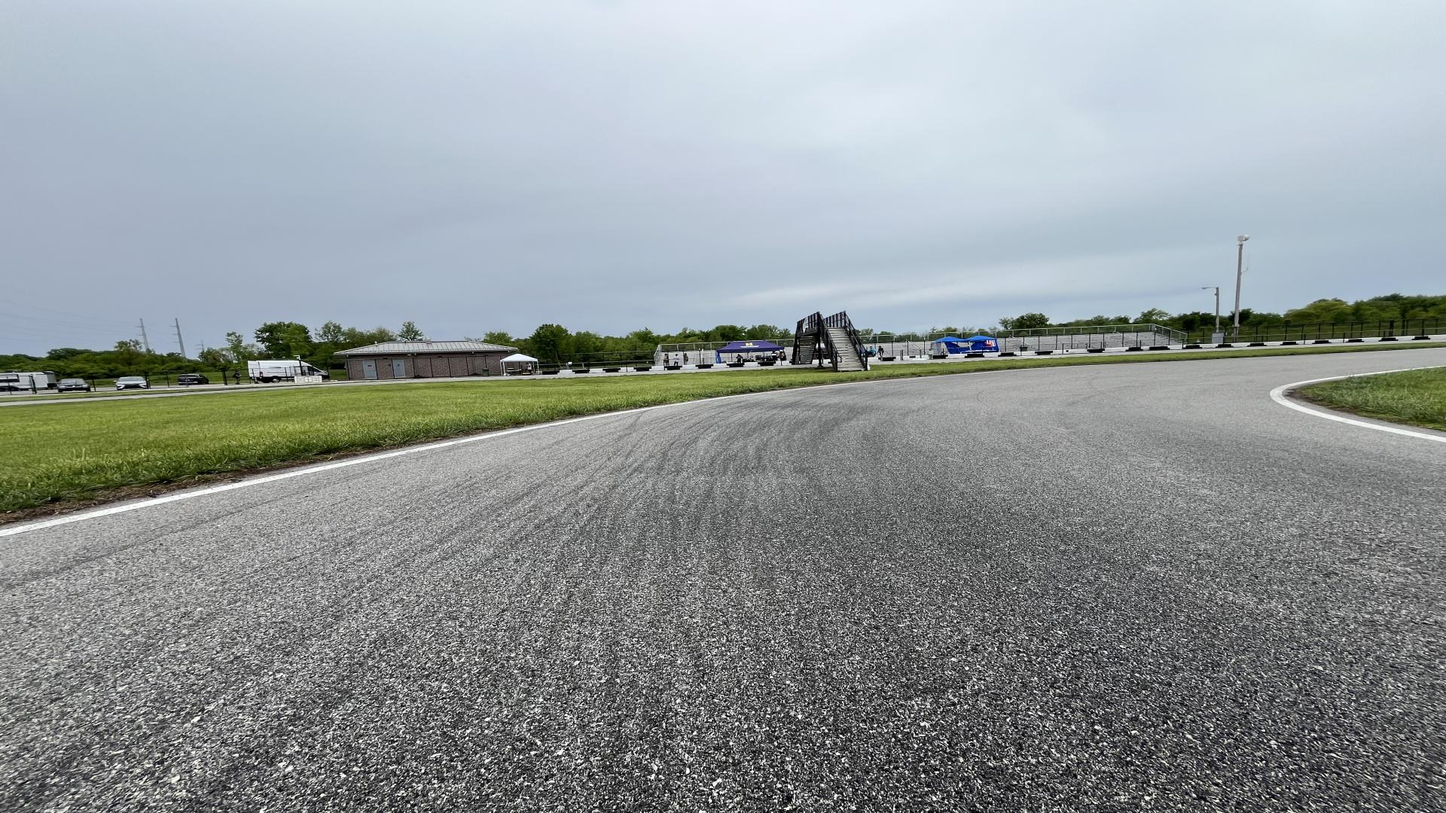white-line: (0, 364, 1114, 540), (1271, 366, 1445, 442)
